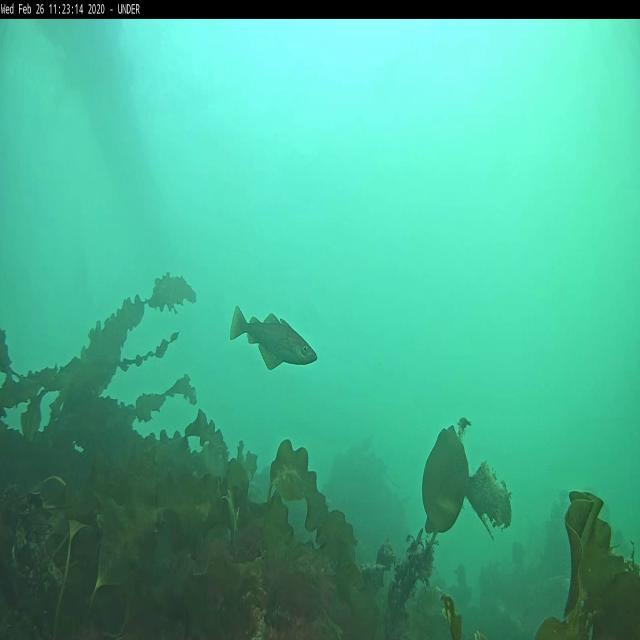fish: (227, 306, 316, 364)
